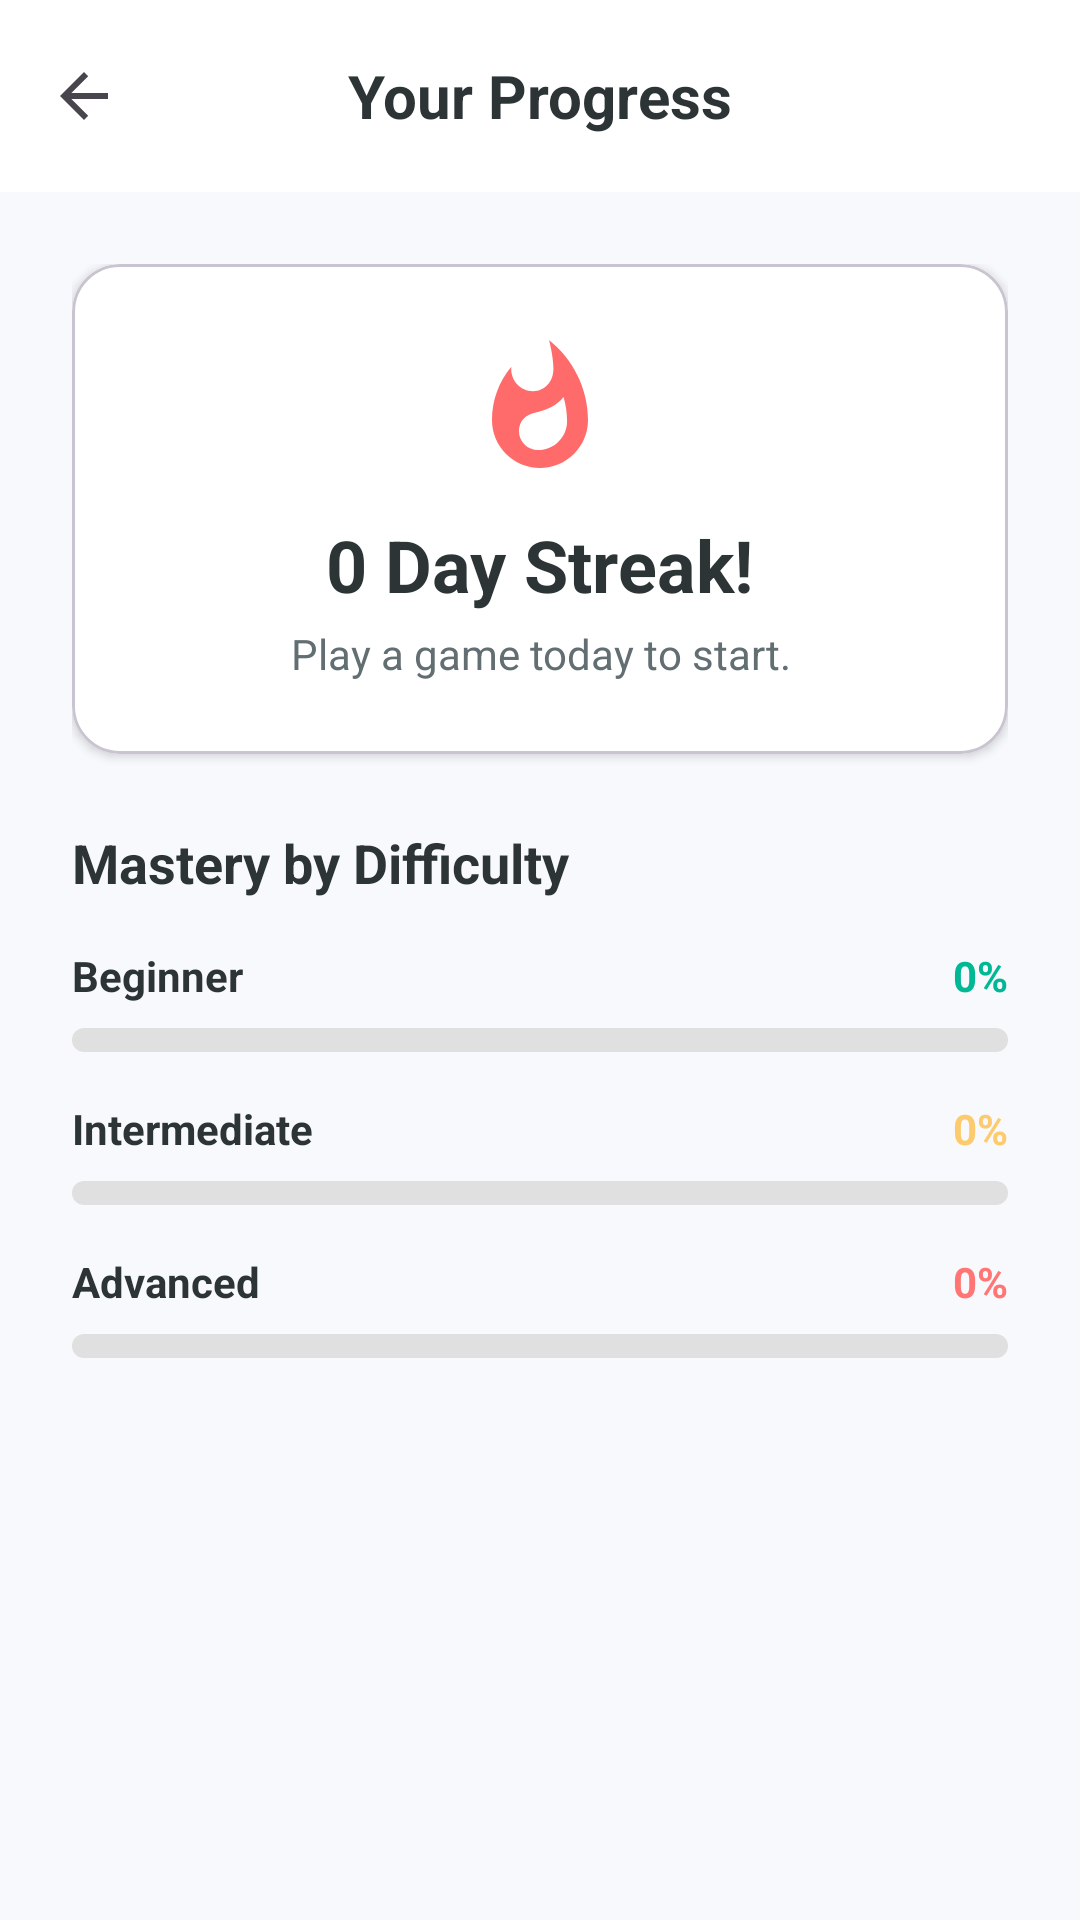

Named icons in this screenshot (1080 x 1920) and their centers, point (x, y):
fire: point (540, 404)
